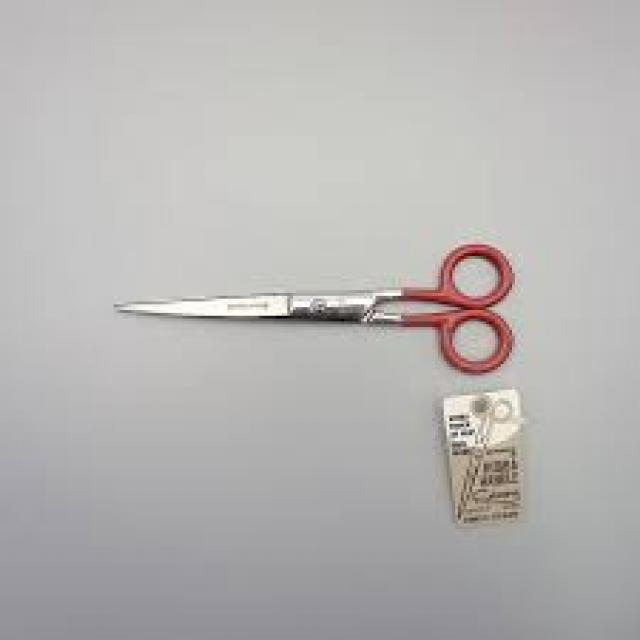scissor: (112, 243, 520, 376)
